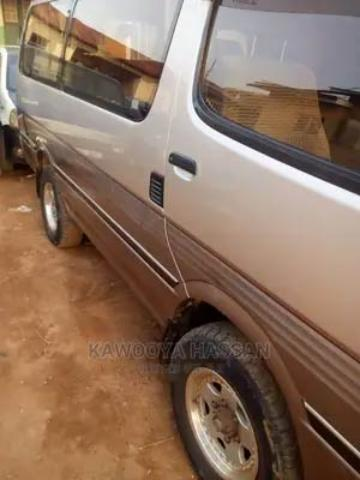van: (17, 1, 359, 479)
